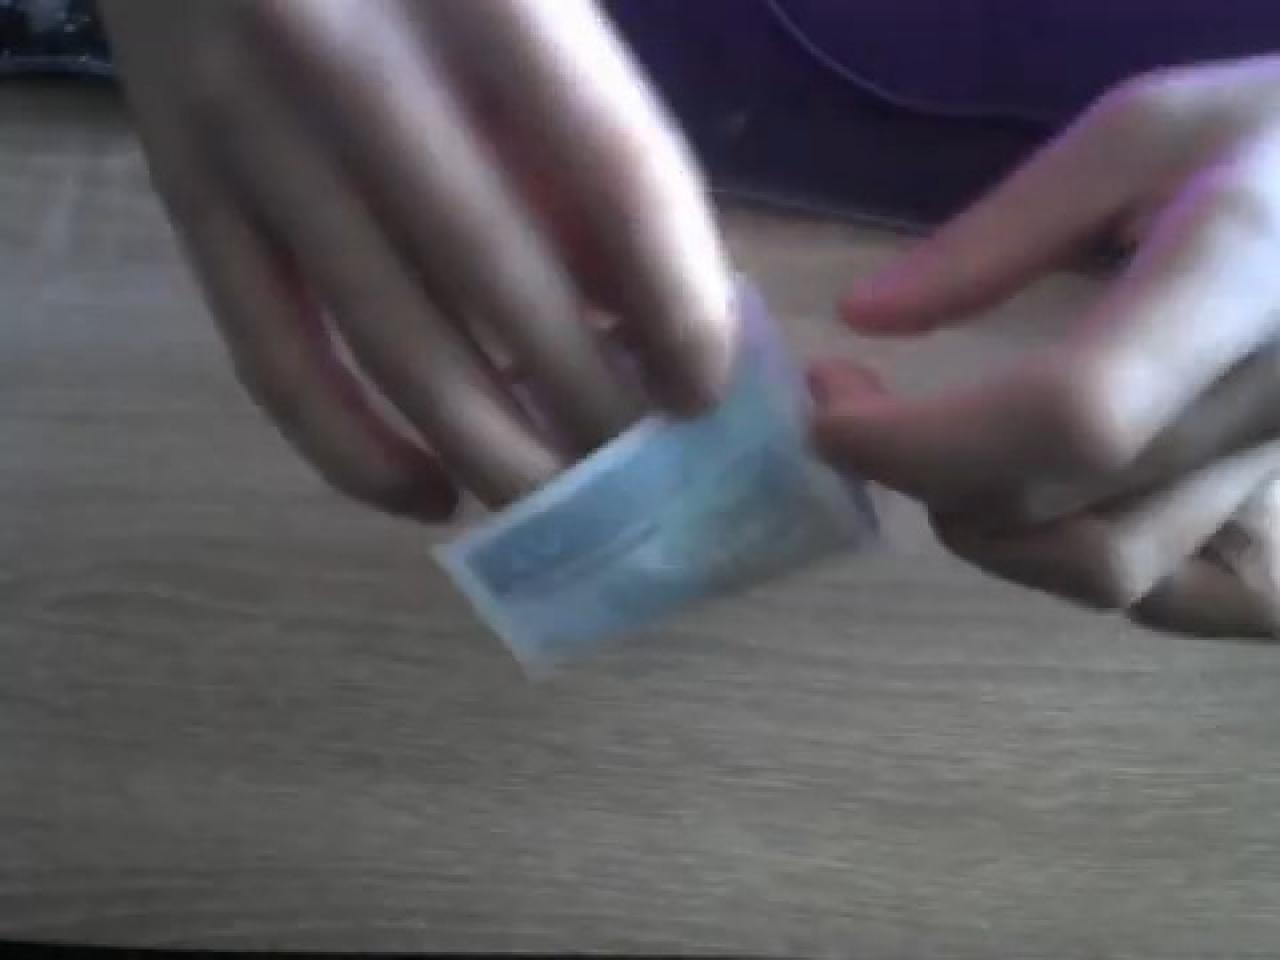20leva: (426, 269, 883, 678)
